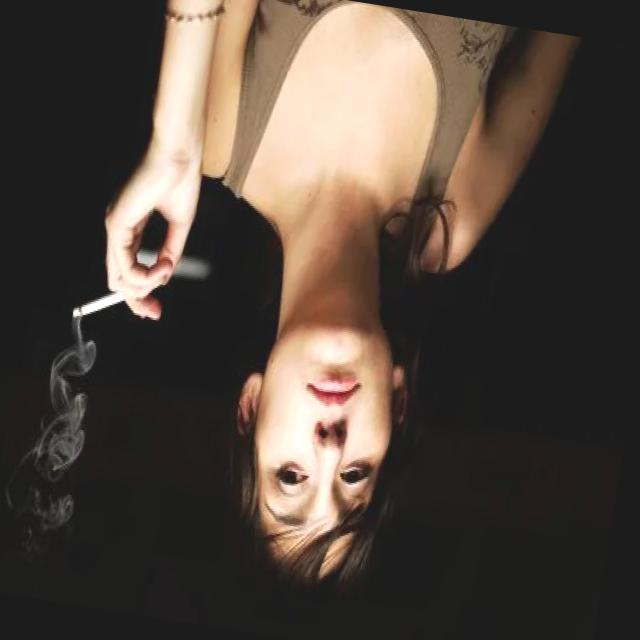cigarette: (67, 271, 162, 332)
